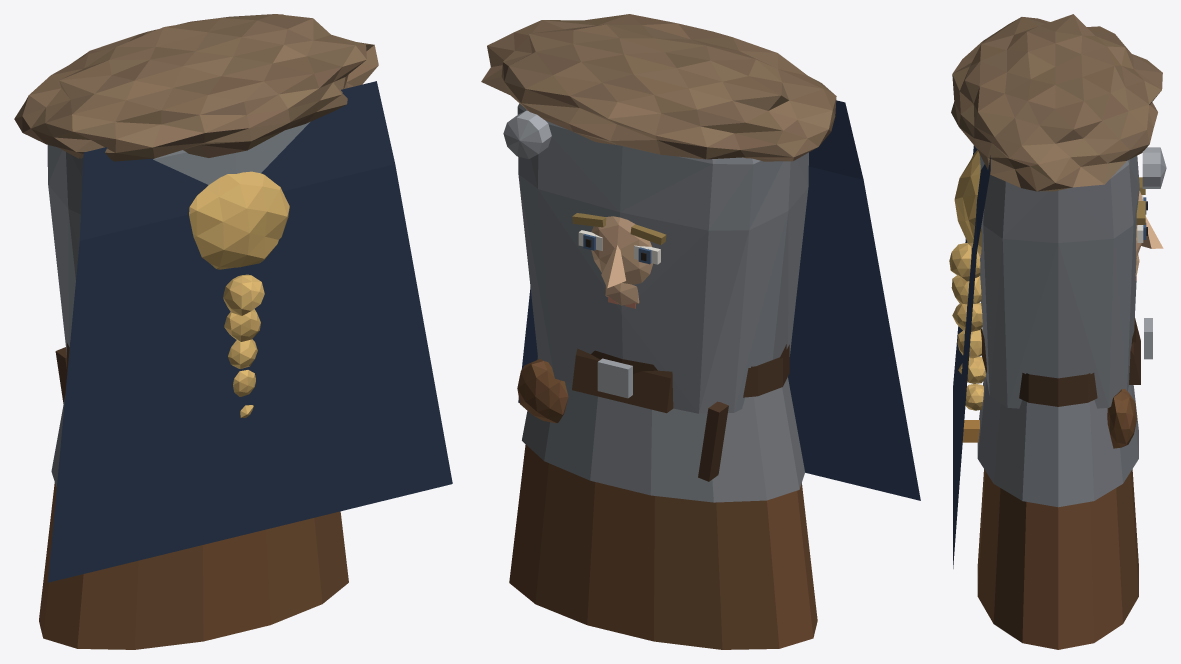
Rendered from Settler_Woman_4.glb.
The picture shows the model from 3 angles, left to right: view 1: azimuth 30°, elevation 25°; view 2: azimuth 150°, elevation 25°; view 3: azimuth 270°, elevation 25°; orthographic projection. The views are drawn at different scales.
Parts seen in each view (by area): view 1: Body, Head; view 2: Body, Head, Leg; view 3: Body, Head, Leg.
Part boxes in pixels (left/top/right/bottom): Body: left=14, top=14, right=452, bottom=649; Head: left=189, top=171, right=289, bottom=417; Body: left=481, top=14, right=920, bottom=649; Head: left=572, top=213, right=666, bottom=308; Leg: left=572, top=348, right=673, bottom=413; Body: left=951, top=14, right=1166, bottom=649; Head: left=949, top=150, right=1163, bottom=442; Leg: left=1129, top=318, right=1140, bottom=384.
Bounding box in the file's own units: 2.9 × 3.79 × 1.44.
Materials: 1 (1 with a texture image).
